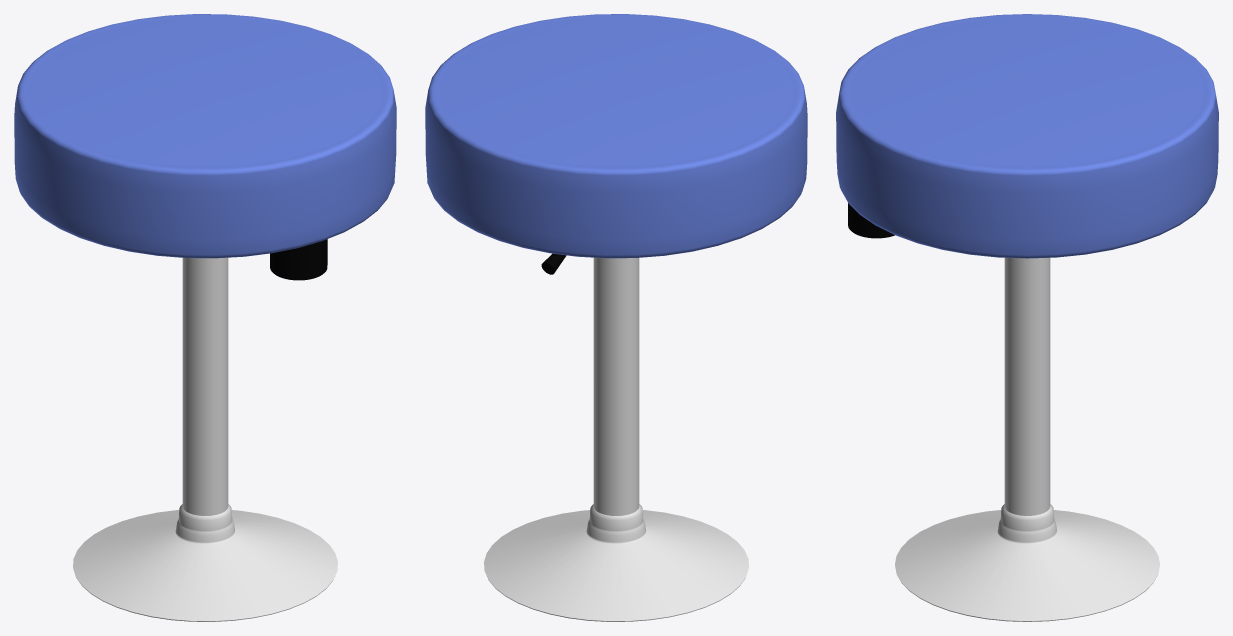
Rendered from Stool06.fbx.
3 renders of one model, left to right at view 1: azimuth 30°, elevation 25°; view 2: azimuth 150°, elevation 25°; view 3: azimuth 270°, elevation 25°, orthographic.
Visible parts, largest first — view 1: Stool02; view 2: Stool02; view 3: Stool02.
Part boxes in pixels (x1,y1,x2,y2): Stool02: [14, 14, 396, 621]; Stool02: [425, 14, 807, 621]; Stool02: [836, 14, 1218, 621].
Bounding box in the file's own units: 2.15 × 2.15 × 2.97.
